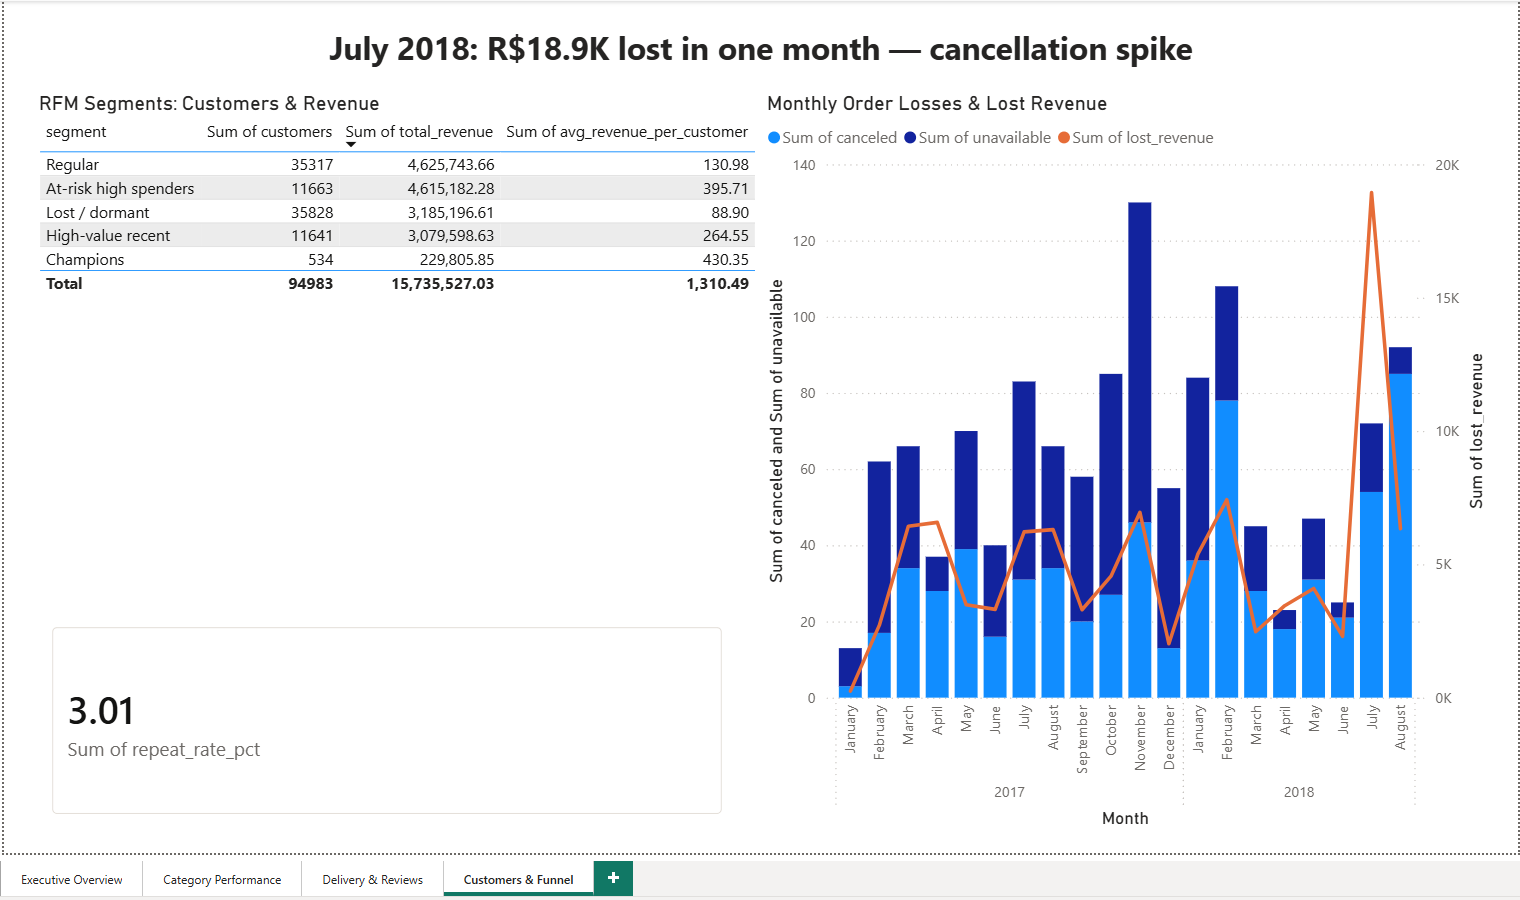

The page's visual inventory and layout, read from the dashboard file:
{"tool":"powerbi","page":{"name":"Customers & Funnel","canvas":[1280,720],"ordinal":3},"visuals":[{"type":"tableEx","title":"RFM Segments: Customers & Revenue","fields":{"Values":["rfm.segment","Sum(rfm.customers)","Sum(rfm.total_revenue)","Sum(rfm.avg_revenue_per_customer)"]},"box":[24.3,75.9,615.7,420.2],"z":0},{"type":"cardVisual","fields":{"Data":["Sum(repeat_rate.repeat_rate_pct)"]},"box":[24,512,600,192],"z":1000},{"type":"lineStackedColumnComboChart","title":"Monthly Order Losses & Lost Revenue","fields":{"Y":["Sum(funnel_loss.canceled)","Sum(funnel_loss.unavailable)"],"Y2":["Sum(funnel_loss.lost_revenue)"],"Category":["funnel_loss.month.Variation.Date Hierarchy.Year","funnel_loss.month.Variation.Date Hierarchy.Month"]},"box":[640,76,616,628],"z":2000},{"type":"textbox","box":[24,16,1232,48],"z":3000}]}

Visuals, with their boxes on the page's 1280x720 design canvas (x1, y1, x2, y2). These are canvas units, not pixel positions in the 1520x900 screenshot, which may show the page scaled, cropped or inside an application window:
"RFM Segments: Customers & Revenue" tableEx: <box>24,76,640,496</box>
cardVisual - Sum(repeat_rate.repeat_rate_pct): <box>24,512,624,704</box>
"Monthly Order Losses & Lost Revenue" lineStackedColumnComboChart: <box>640,76,1256,704</box>
textbox: <box>24,16,1256,64</box>
